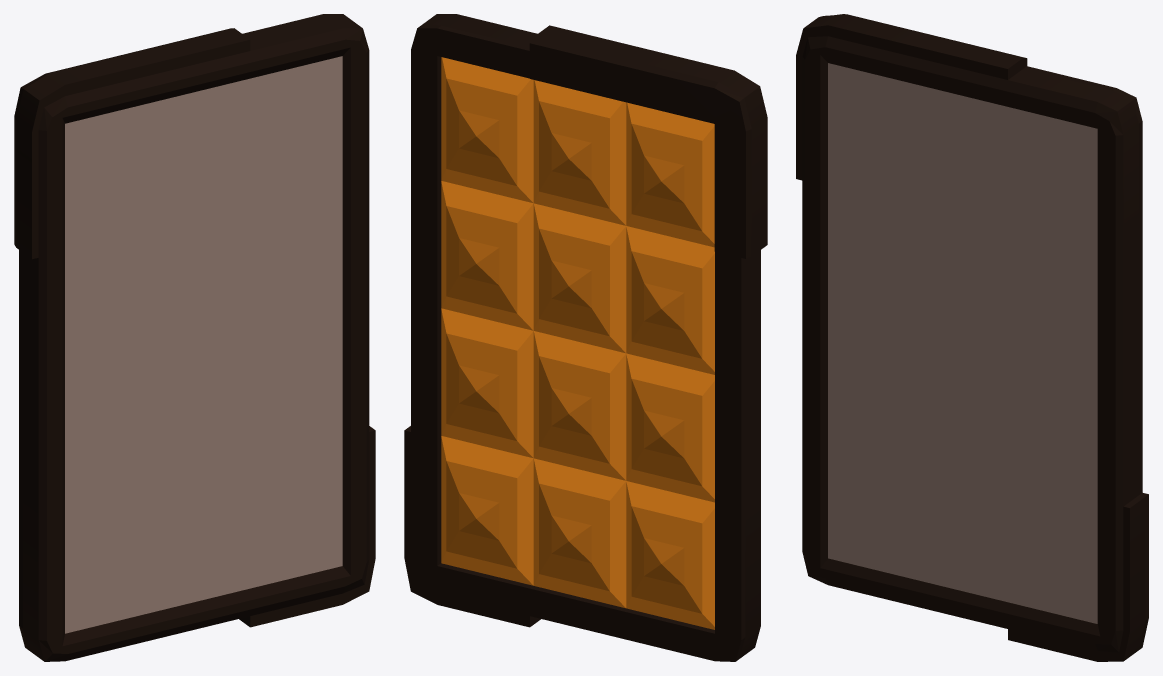
Rendered from Card.FBX.
The picture shows the model from 3 angles, left to right: view 1: azimuth 30°, elevation 25°; view 2: azimuth 150°, elevation 25°; view 3: azimuth 330°, elevation 25°; orthographic projection. The views are drawn at different scales.
Parts seen in each view (by area): view 1: Box001; view 2: Box001; view 3: Box001.
Part boxes in pixels (bbox=[...]): Box001: bbox=[14, 14, 375, 661]; Box001: bbox=[404, 14, 767, 661]; Box001: bbox=[796, 14, 1148, 661].
Bounding box in the file's own units: 1.04 × 1.7 × 0.1555.
